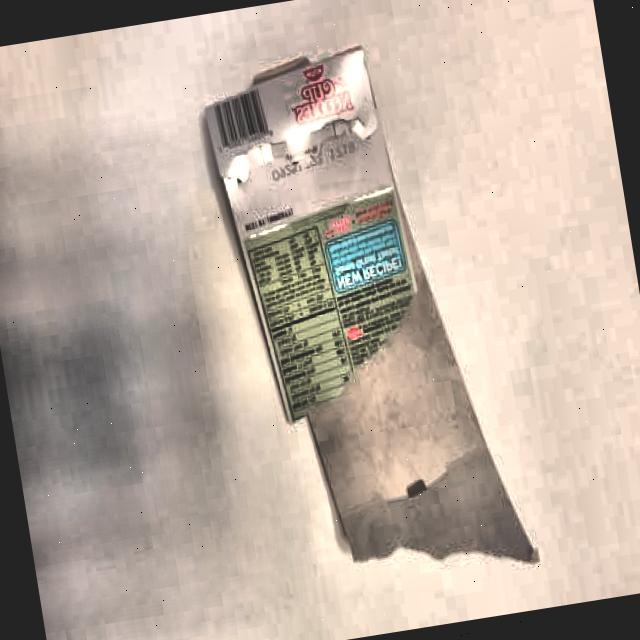paper: (198, 30, 502, 598)
